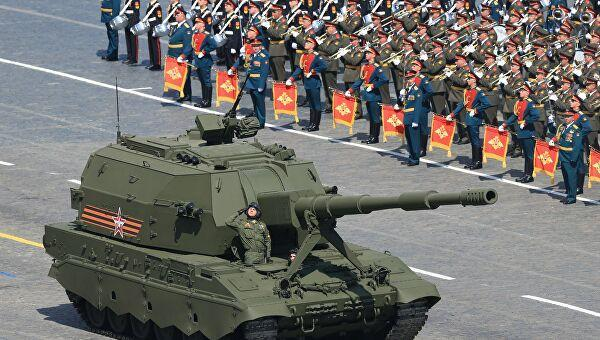sau: (26, 85, 493, 340)
